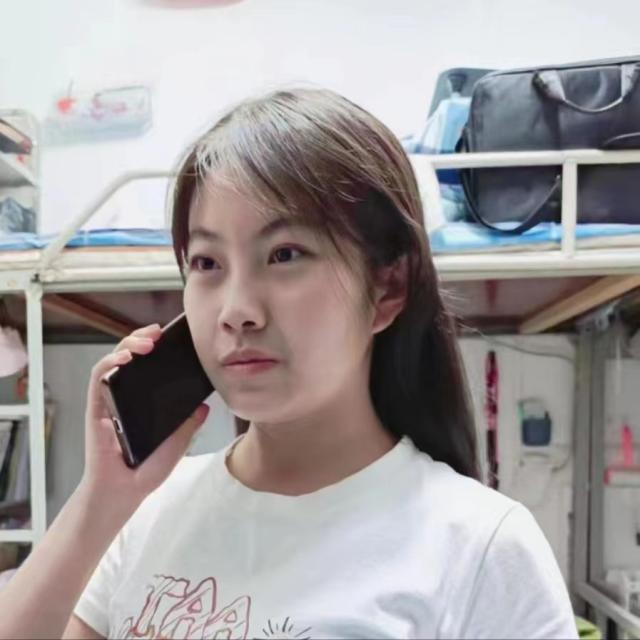phone: (101, 313, 206, 467)
